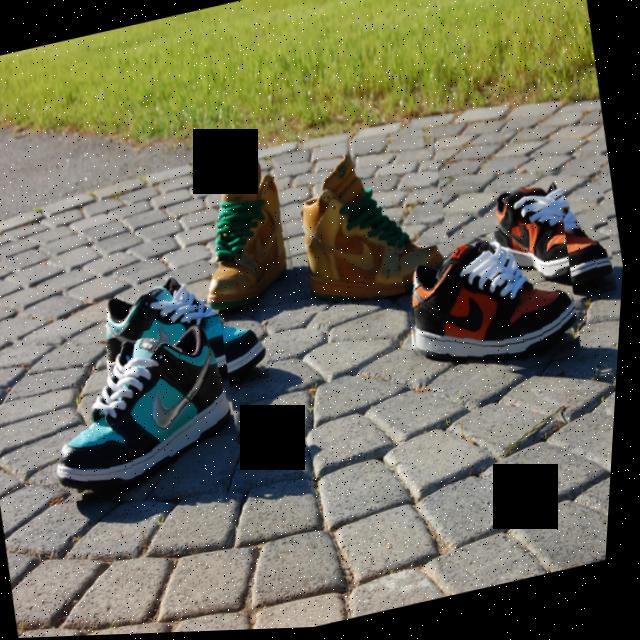shoe: (29, 314, 254, 509), (275, 124, 465, 320), (395, 220, 594, 402), (94, 254, 280, 415), (180, 137, 316, 330), (477, 162, 627, 322)
